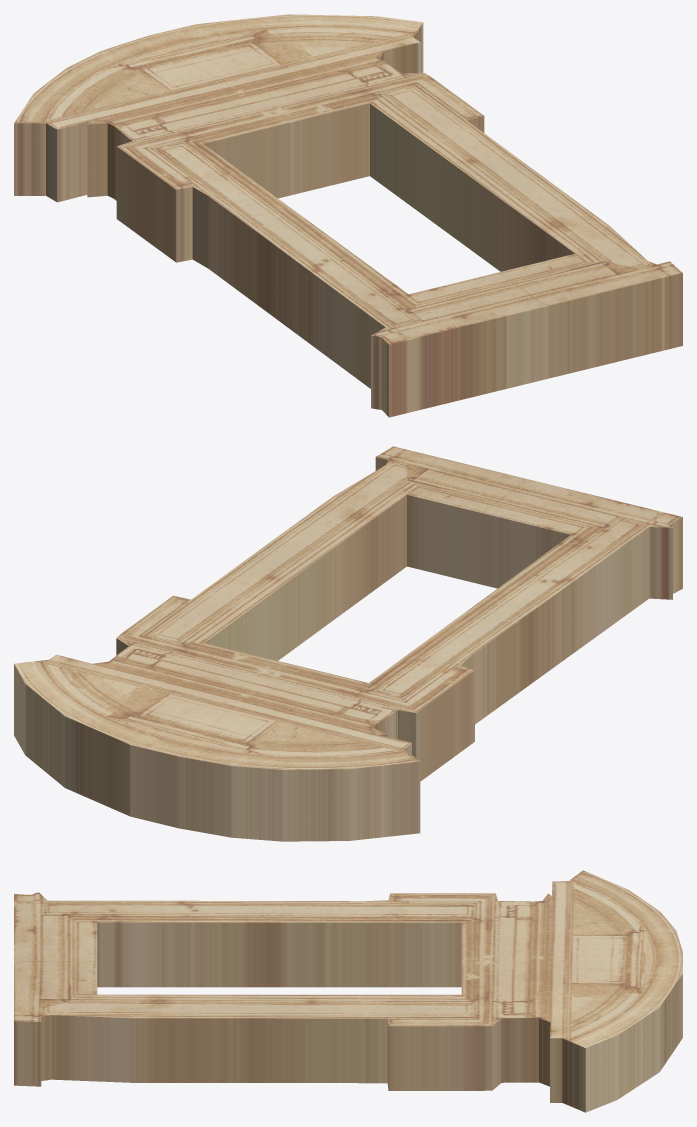
File: portal.gltf
The picture shows the model from 3 angles, top to bottom: view 1: azimuth 30°, elevation 25°; view 2: azimuth 150°, elevation 25°; view 3: azimuth 270°, elevation 25°; orthographic projection. The views are drawn at different scales.
Bounding box in the file's own units: 0.1285 × 0.0217 × 0.2042.
Materials: 1 (1 with a texture image).
